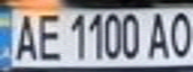0: (121, 10, 145, 60), (103, 10, 124, 60)
1: (63, 10, 87, 61), (84, 10, 106, 60)
A: (9, 9, 39, 62), (145, 9, 172, 60)
E: (33, 9, 66, 62)
O: (166, 8, 193, 60)
